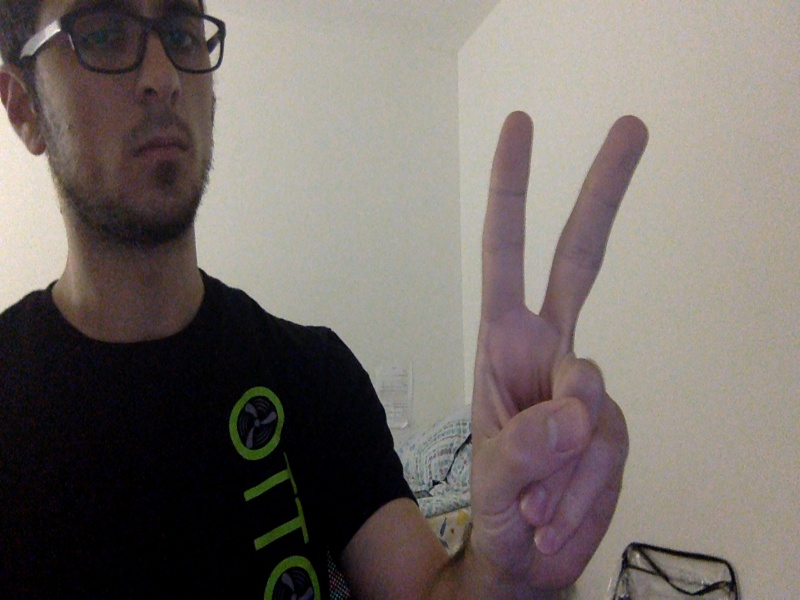2-hand: (468, 110, 653, 581)
